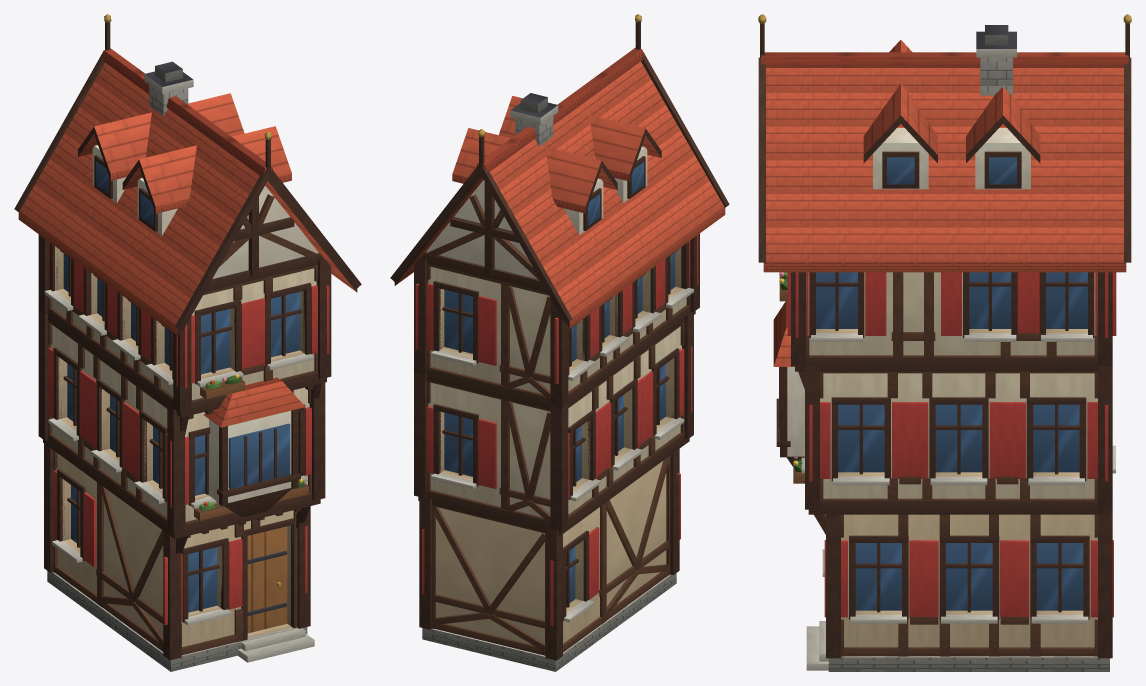
The model's file is res_townhouse_02.glb.
3 views of the same model, side by side, from view 1: azimuth 30°, elevation 25°; view 2: azimuth 150°, elevation 25°; view 3: azimuth 270°, elevation 25° (orthographic). The views are drawn at different scales.
Visible parts, largest first — view 1: res_townhouse_02; view 2: res_townhouse_02; view 3: res_townhouse_02.
Part boxes in pixels (x1=…): res_townhouse_02: x1=14, y1=14, x2=361, y2=671; res_townhouse_02: x1=390, y1=14, x2=729, y2=671; res_townhouse_02: x1=758, y1=14, x2=1131, y2=671.
Bounding box in the file's own units: 5.19 × 14.71 × 8.03.
Materials: 1 (1 with a texture image).
